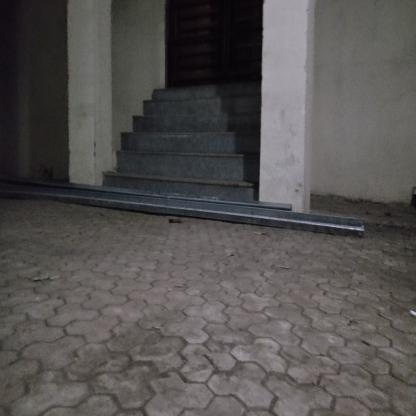stairs: (145, 93, 257, 196)
